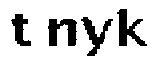k: (116, 4, 151, 50)
n: (43, 14, 79, 48)
t: (10, 11, 32, 54)
y: (80, 13, 114, 60)
